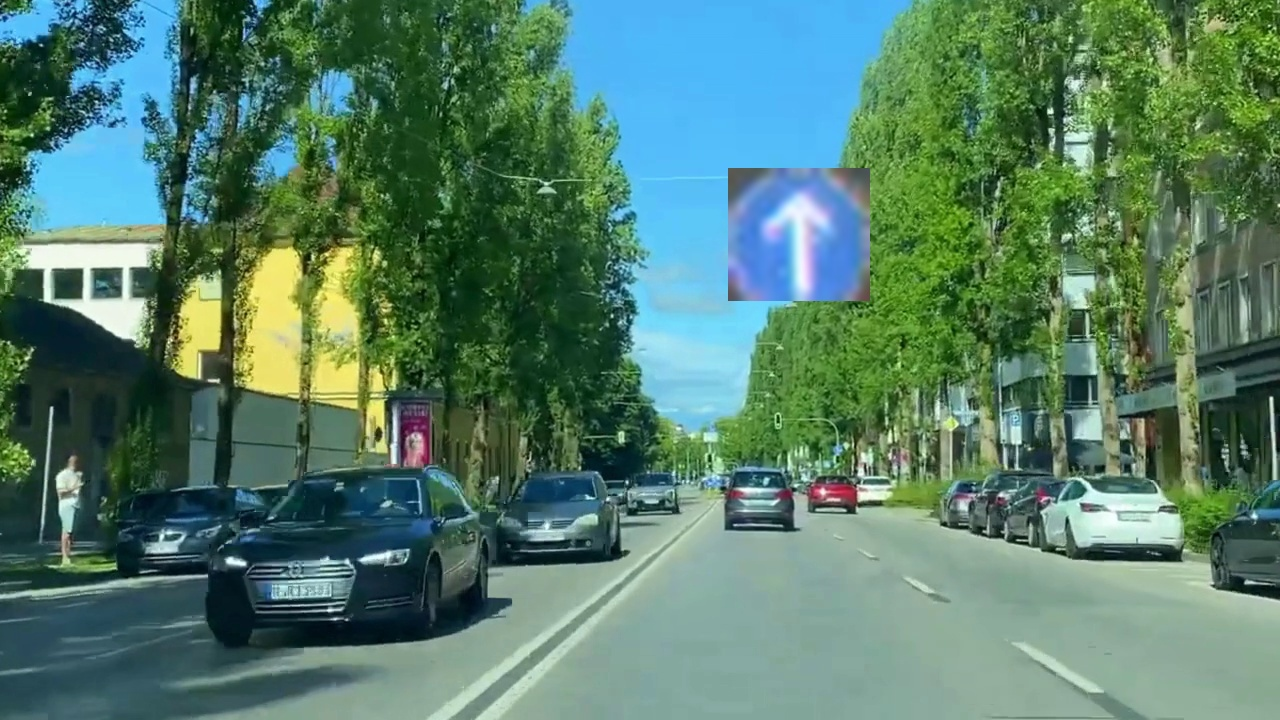Ahead only: (728, 168, 870, 301)
